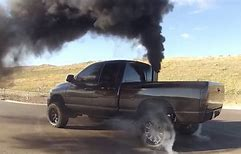smoke: (1, 1, 166, 73)
